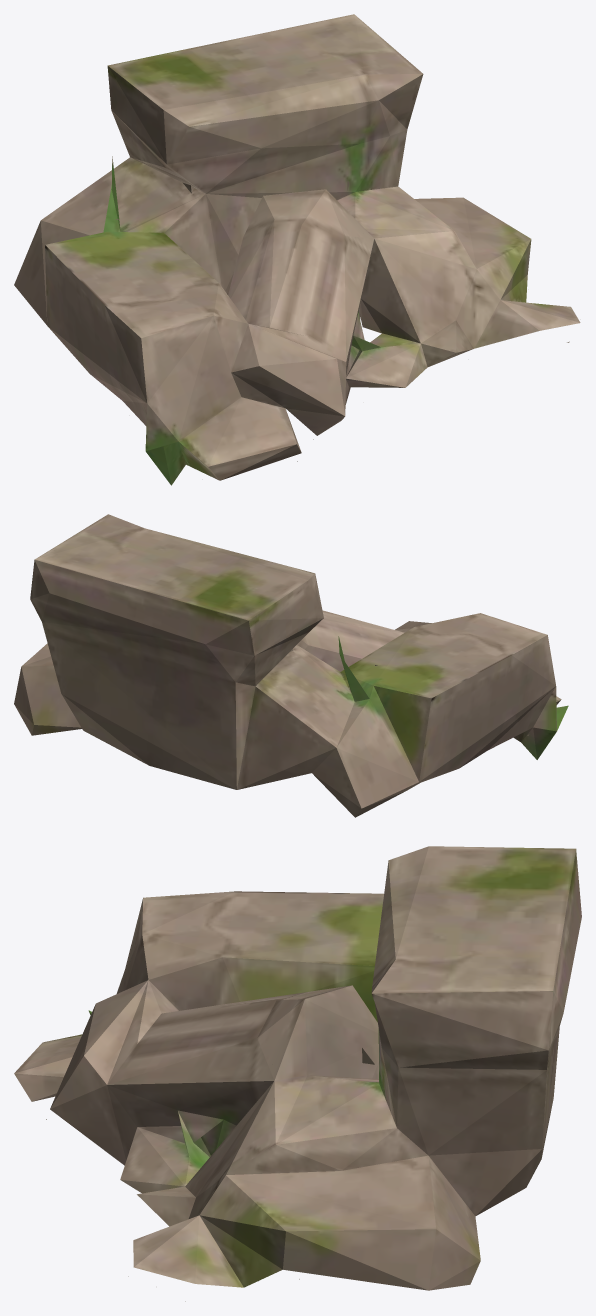
Rendered from rubble.glb.
3 views of the same model, one above another, from view 1: azimuth 30°, elevation 25°; view 2: azimuth 150°, elevation 25°; view 3: azimuth 270°, elevation 25° (orthographic). The views are drawn at different scales.
Parts seen in each view (by area): view 1: rubble; view 2: rubble; view 3: rubble.
Part boxes in pixels (box(x1,y1,x2,y2)): rubble: box(14, 14, 580, 485); rubble: box(14, 514, 568, 817); rubble: box(14, 846, 581, 1301).
Size of the model in its own units: 2.45 by 1.27 by 2.09.
1 material, 1 textured.
